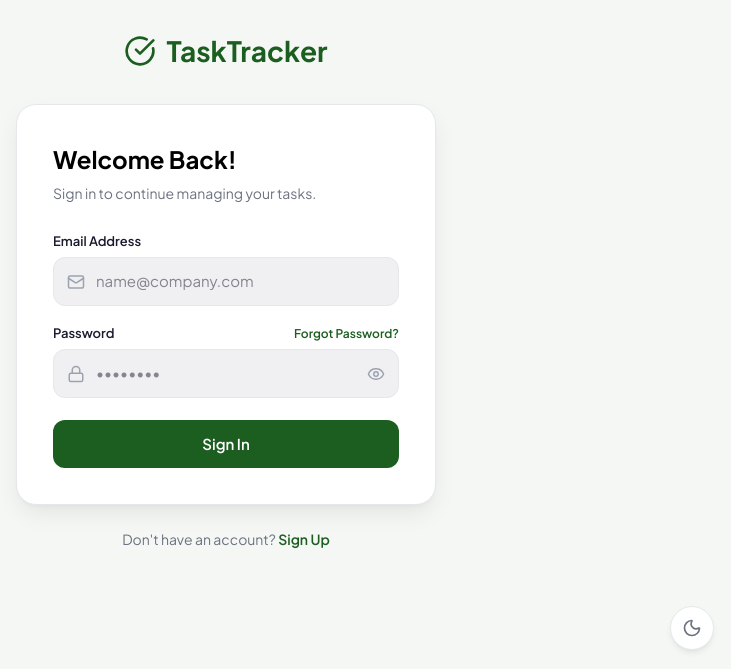
it: Integration: Login Flow › displays API error message on login failure
The image size is (731, 669).
Type "wrong@example.com" into the field labelled "Email Address".
click(226, 282); type("wrong@example.com")  # box [53, 257, 399, 306]
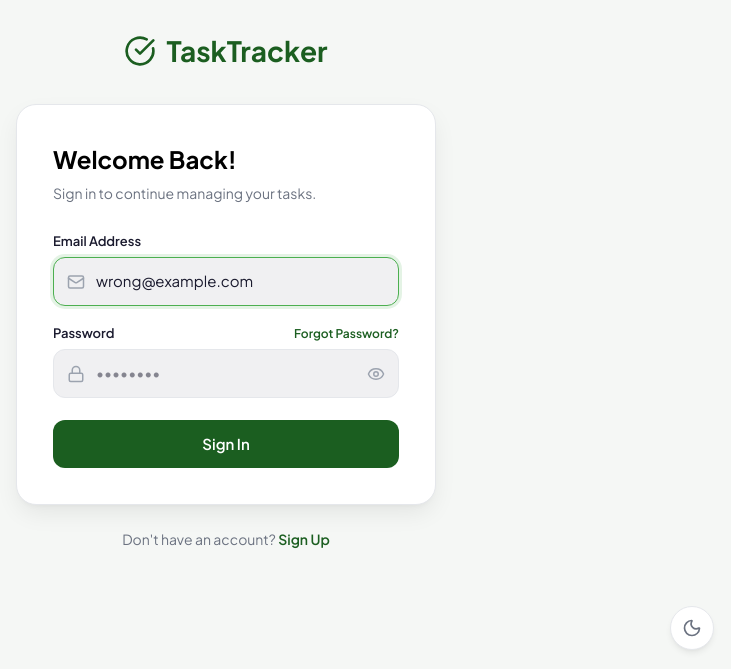
Type "wrongpassword" into the password field labelled "Password".
click(226, 374); type("wrongpassword")  # box [53, 349, 399, 398]
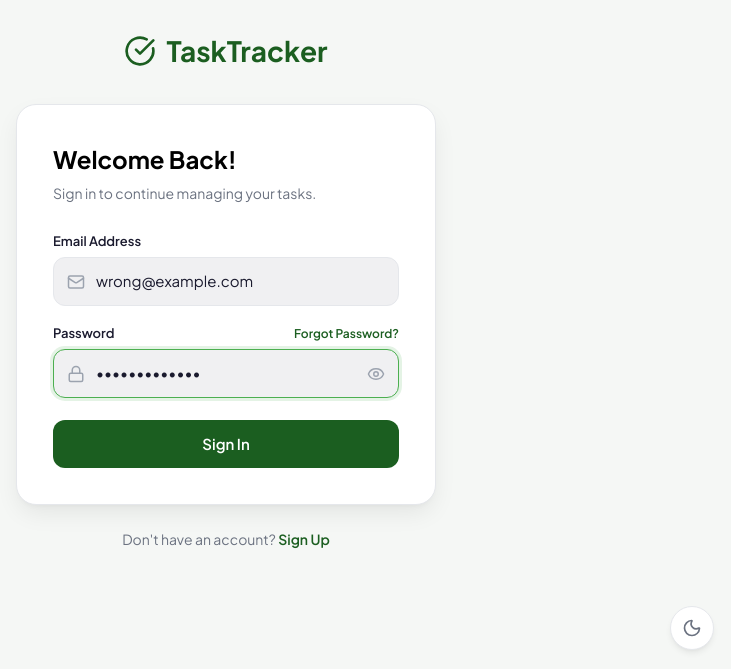
Click the button "Sign In".
click(226, 444)  # box [53, 420, 399, 468]
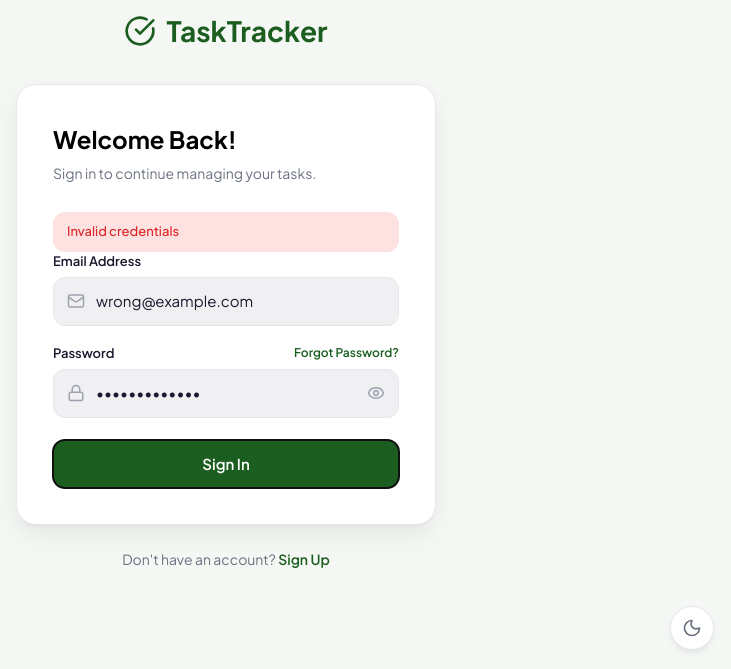
Expected: the text "Invalid credentials" is shown, [53, 212, 399, 252]
